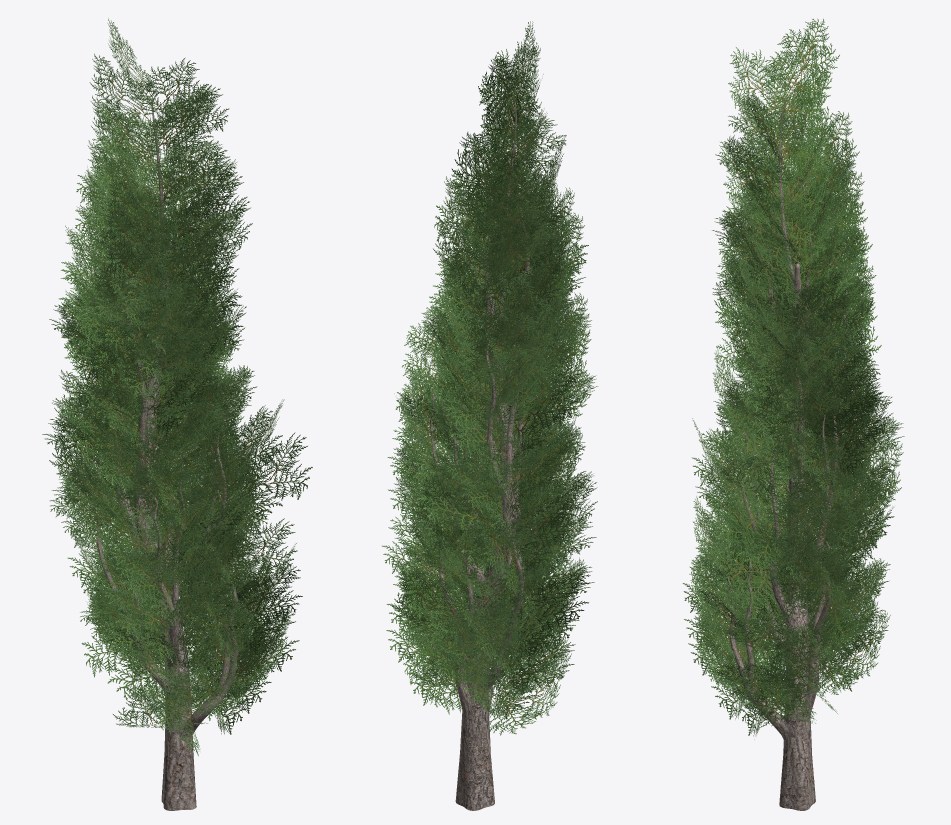
3 views of the same model, side by side, from view 1: azimuth 30°, elevation 25°; view 2: azimuth 150°, elevation 25°; view 3: azimuth 270°, elevation 25° (orthographic). The views are drawn at different scales.
Parts seen in each view (by area): view 1: pine_2_1, trunk_2_1_0; view 2: pine_2_1, trunk_2_1_0; view 3: pine_2_1, trunk_2_1_0.
Boxes of the visible parts, x1,y1,x2,y2 form: pine_2_1: (42, 18, 312, 756); trunk_2_1_0: (95, 97, 237, 810); pine_2_1: (382, 21, 598, 735); trunk_2_1_0: (430, 95, 546, 810); pine_2_1: (682, 18, 904, 736); trunk_2_1_0: (728, 97, 848, 810).
Bounding box in the file's own units: 380 × 1058 × 352.
Materials: 2 (2 with a texture image).
